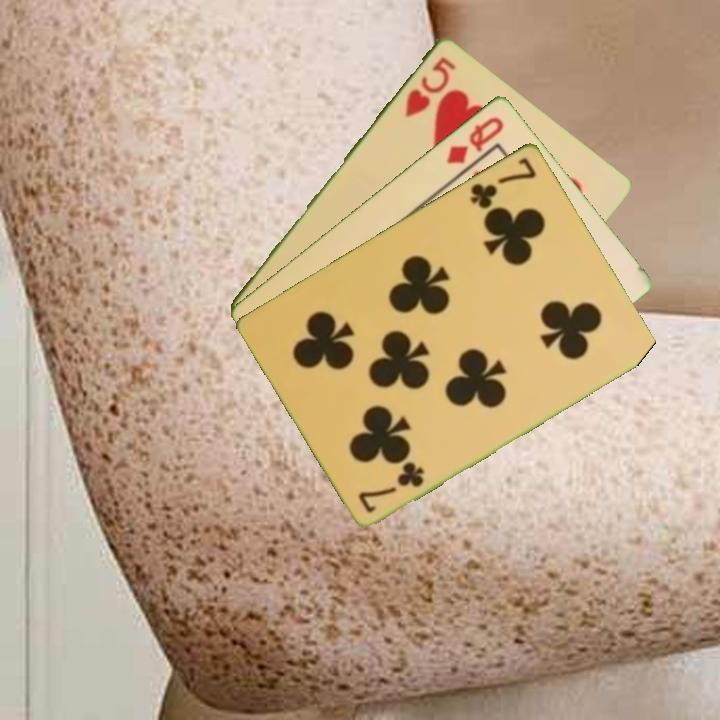5h: (401, 52, 459, 120)
7c: (466, 153, 540, 211), (355, 457, 428, 515)
Qd: (442, 112, 507, 167)
